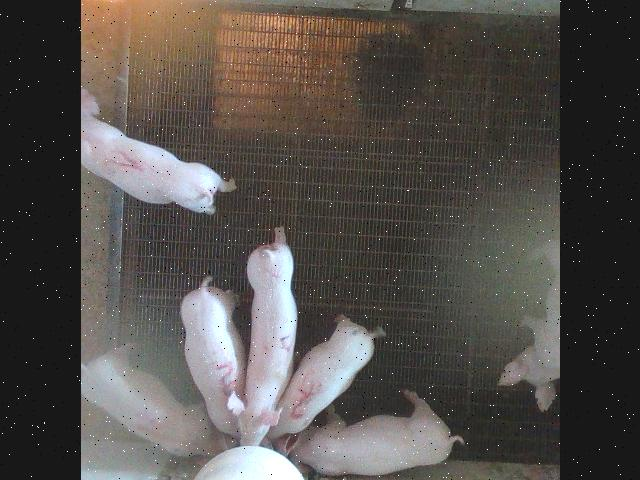pig-1: (81, 115, 235, 214)
pig-3: (180, 276, 245, 438)
pig-4: (81, 344, 230, 456)
pig-5: (267, 315, 384, 439)
